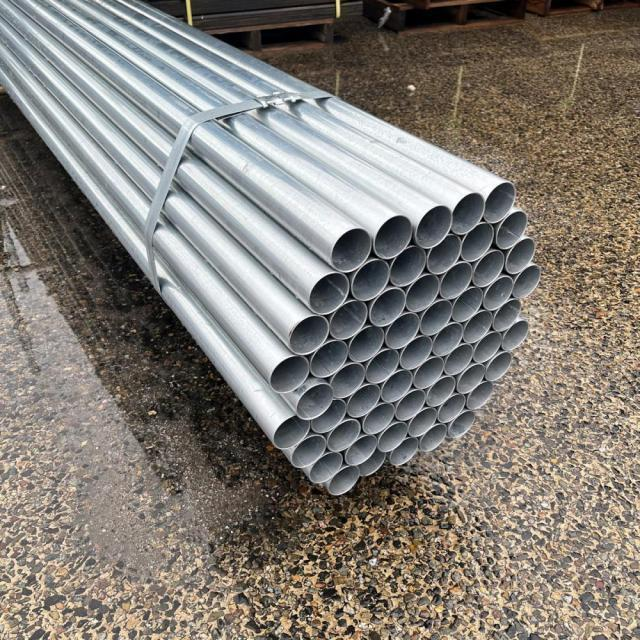pipe: (328, 223, 373, 277), (307, 270, 352, 319), (375, 209, 415, 263), (267, 353, 311, 397), (352, 256, 391, 304), (293, 380, 336, 422), (287, 312, 328, 356), (329, 297, 370, 341), (415, 201, 452, 249), (390, 243, 428, 289), (484, 179, 520, 227), (451, 190, 486, 238), (288, 432, 328, 474), (310, 339, 349, 381), (495, 207, 532, 251), (369, 285, 406, 328), (427, 232, 463, 276), (460, 219, 496, 263), (306, 450, 345, 489), (348, 322, 386, 362), (271, 415, 312, 451), (309, 397, 347, 435), (440, 258, 475, 299), (406, 271, 440, 312), (330, 360, 365, 399), (386, 309, 420, 349), (326, 416, 363, 452), (474, 246, 505, 288), (366, 347, 400, 385), (346, 381, 380, 419), (514, 262, 547, 300), (421, 297, 453, 336), (452, 283, 484, 322), (507, 234, 538, 274), (327, 465, 362, 500), (399, 333, 432, 370), (483, 273, 515, 311), (492, 297, 527, 331), (433, 319, 464, 357), (361, 400, 394, 435), (413, 354, 446, 389), (448, 408, 481, 442), (344, 433, 379, 465), (381, 367, 413, 402), (395, 387, 427, 421), (464, 308, 494, 344), (500, 319, 532, 352), (377, 418, 409, 451), (389, 435, 421, 468), (443, 341, 473, 374), (427, 373, 457, 406), (485, 352, 518, 382), (408, 405, 438, 438), (474, 329, 503, 362), (466, 378, 495, 411), (456, 362, 486, 393), (438, 391, 467, 423), (420, 422, 447, 455), (359, 449, 387, 479)
